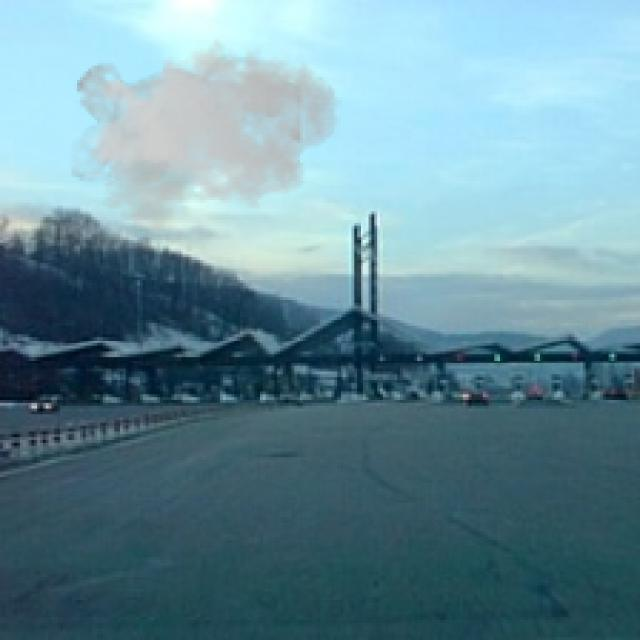smoke: (71, 28, 340, 232)
